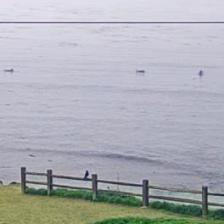surfer: (4, 68, 15, 72), (198, 69, 204, 76), (136, 69, 145, 73)
